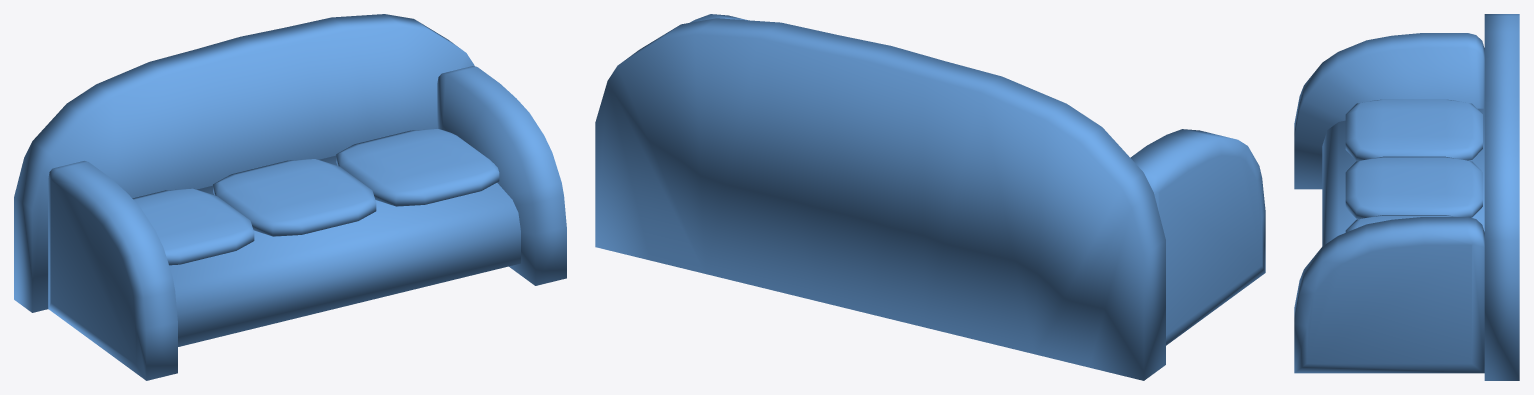
Rendered from Chord.fbx.
3 renders of one model, left to right at view 1: azimuth 30°, elevation 25°; view 2: azimuth 150°, elevation 25°; view 3: azimuth 270°, elevation 25°, orthographic. The views are drawn at different scales.
Parts seen in each view (by area): view 1: Chord(rename); view 2: Chord(rename); view 3: Chord(rename).
Part boxes in pixels (x1,y1,x2,y2): Chord(rename): [14, 14, 566, 380]; Chord(rename): [595, 14, 1265, 380]; Chord(rename): [1294, 14, 1519, 380].
Bounding box in the file's own units: 235 × 103 × 105.
